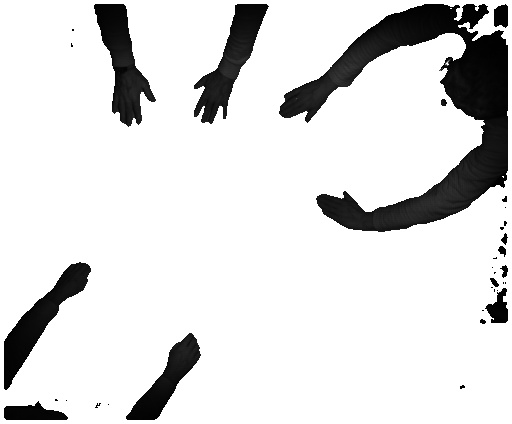hand: (312, 184, 370, 231), (272, 82, 332, 127), (112, 71, 159, 127), (192, 76, 237, 127), (166, 328, 207, 380), (52, 256, 95, 304)
